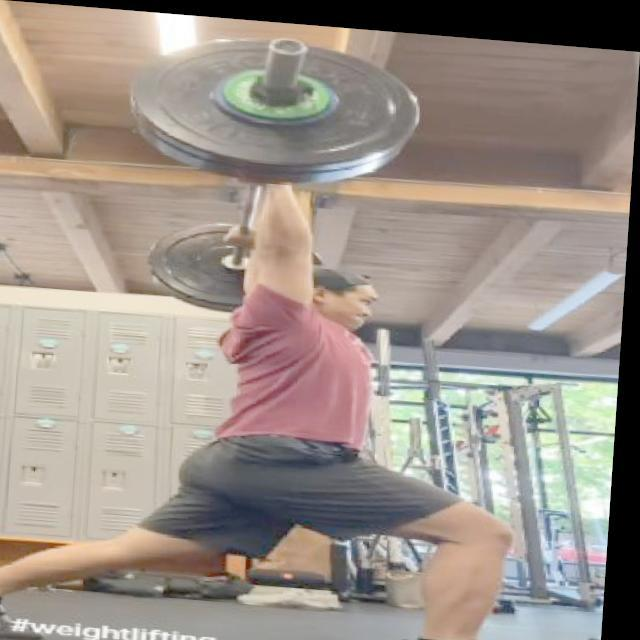barbell: (126, 21, 428, 176)
